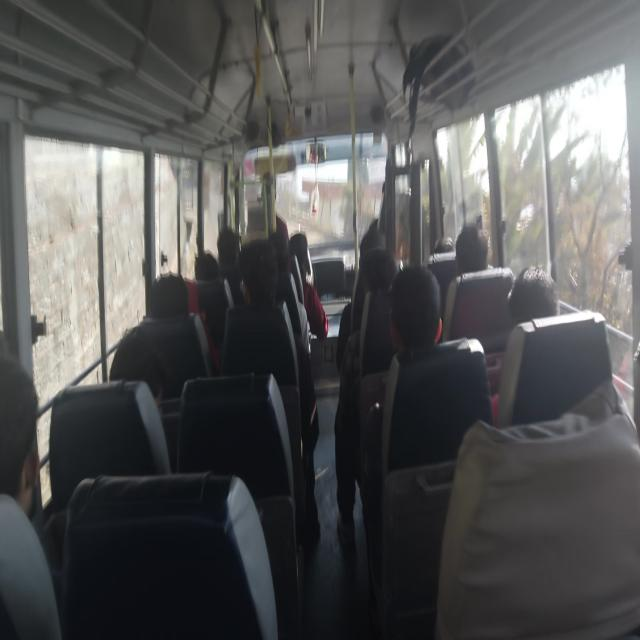person: (435, 378, 639, 638), (358, 264, 494, 634), (221, 237, 320, 543), (334, 247, 399, 548), (0, 352, 61, 638), (109, 271, 211, 405), (488, 264, 560, 425), (336, 218, 385, 372), (442, 222, 493, 340), (289, 231, 328, 340), (506, 264, 560, 325), (216, 226, 244, 306), (454, 222, 490, 275)
